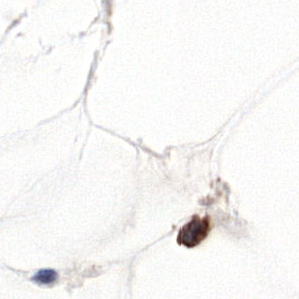Lymphocyte: (176, 214, 214, 248)
